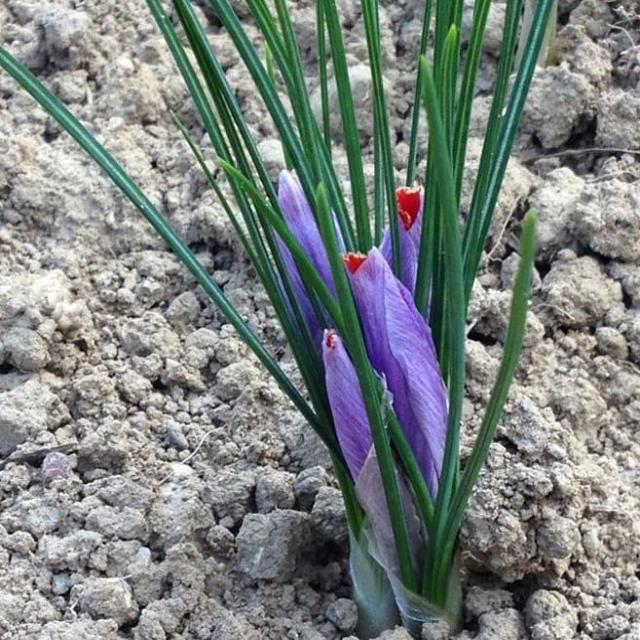saffron closed: (349, 249, 448, 495), (322, 329, 372, 480), (278, 170, 335, 291), (396, 187, 424, 291)
